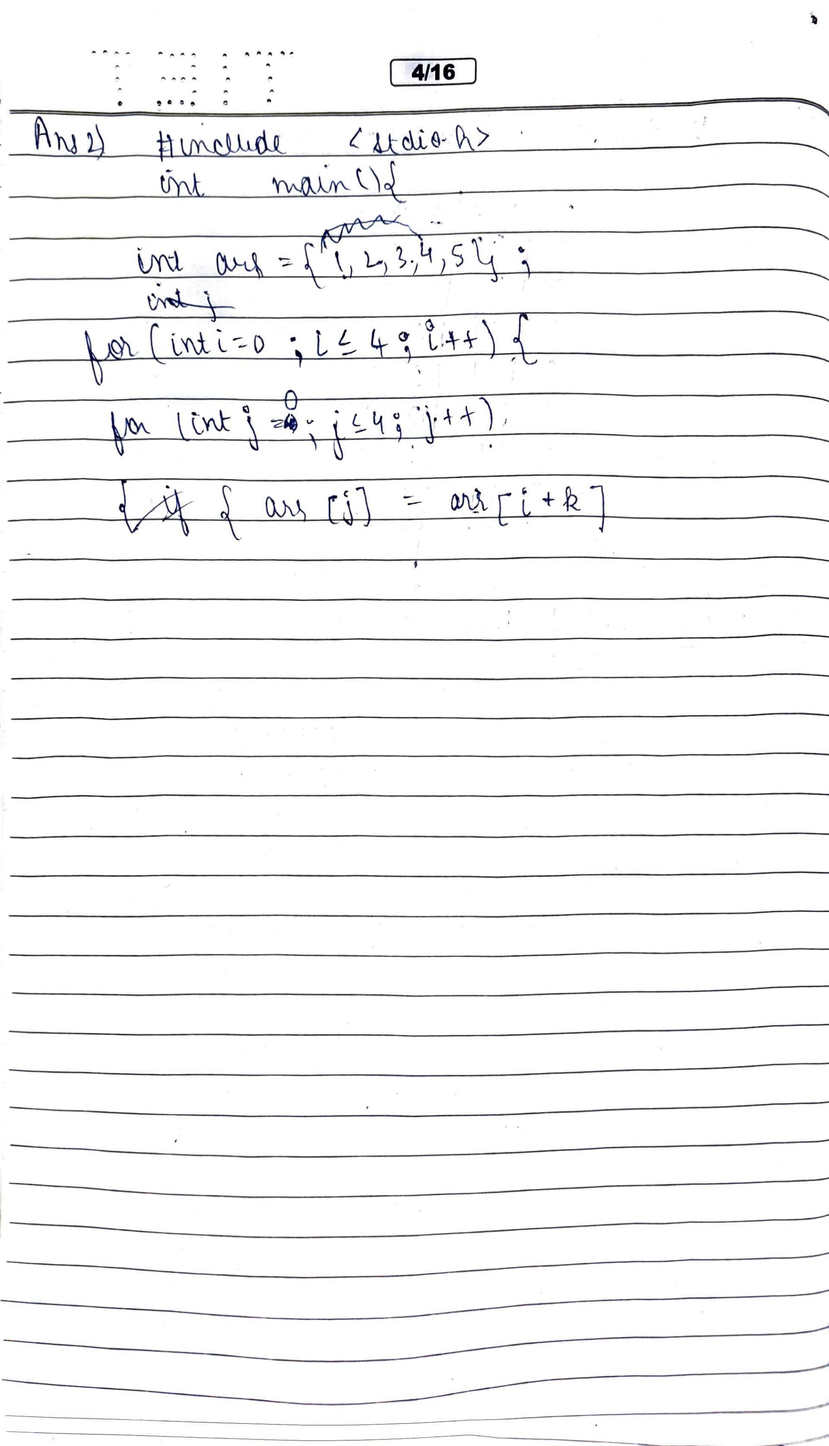cuttings: (320, 213, 424, 255), (144, 280, 239, 324), (134, 479, 197, 541), (282, 414, 301, 433)
